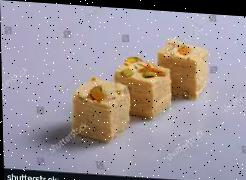cube: (73, 76, 130, 141), (116, 57, 172, 116), (161, 39, 210, 98)
